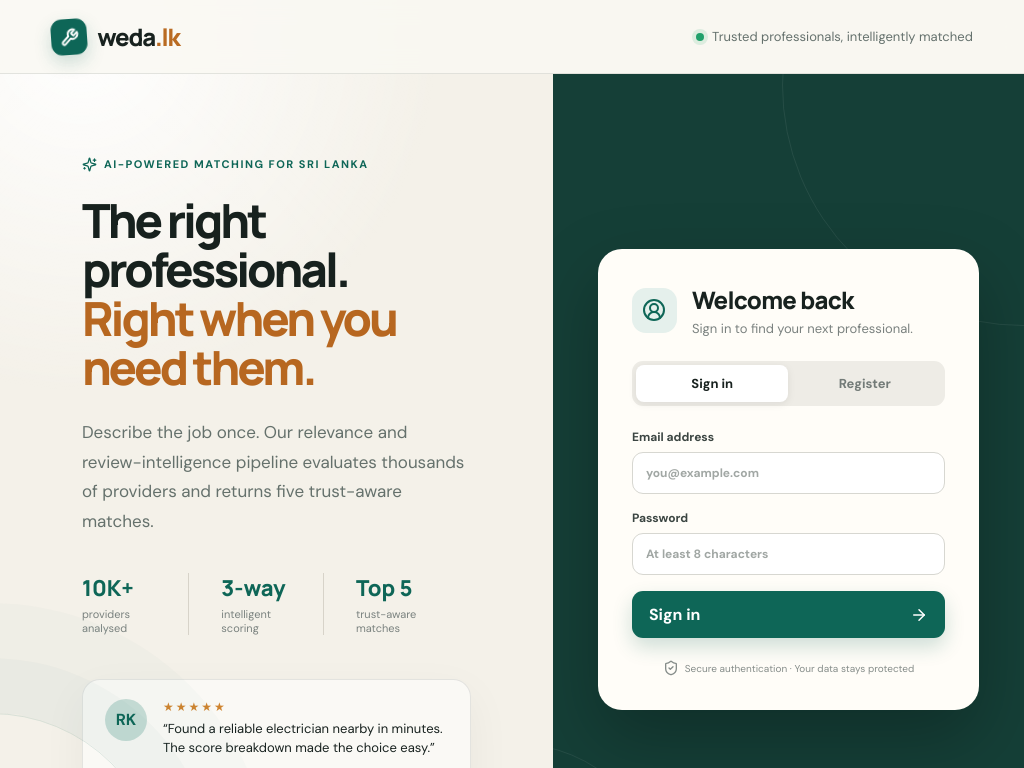
Test case: authentication entry flow › shows sign in by default and allows switching to registration
Expected: the heading "Welcome back" is shown, 692,283 -> 854,316
Click the button "Register": [865, 384] box 788,365 -> 941,402
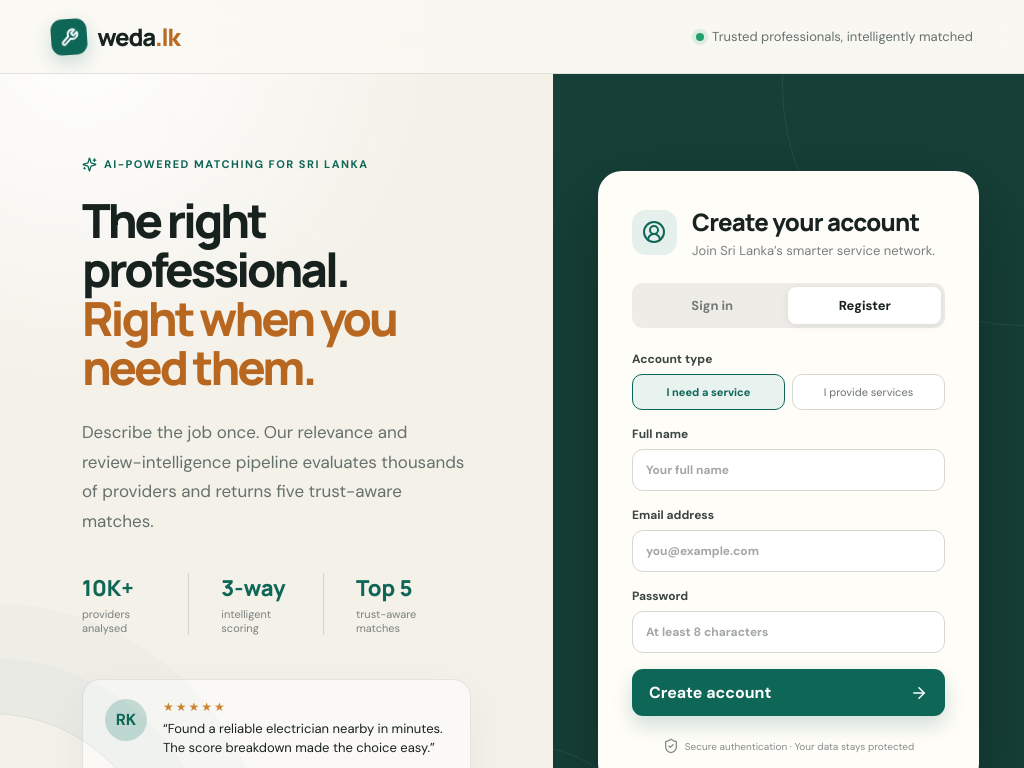
Result: the heading "Create your account" is shown at 692,205 -> 935,238
Result: the button "I need a service" is shown at 632,374 -> 785,410
